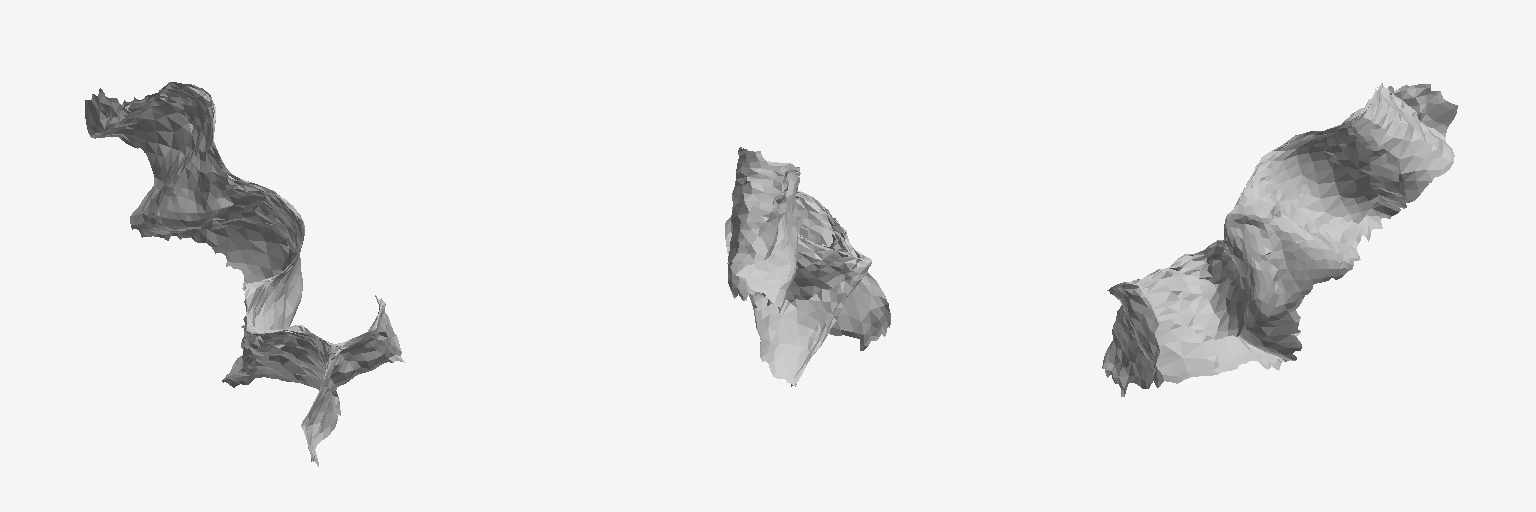
File: L_superior_occipital_and_transverse_occipital_sulci.obj
3 views of the same model, side by side, from view 1: azimuth 30°, elevation 25°; view 2: azimuth 150°, elevation 25°; view 3: azimuth 270°, elevation 25° (orthographic).
Parts seen in each view (by area): view 1: L_superior_occipital_and_transverse_occipital_sulci_R_superior_o; view 2: L_superior_occipital_and_transverse_occipital_sulci_R_superior_o; view 3: L_superior_occipital_and_transverse_occipital_sulci_R_superior_o.
Part boxes in pixels (x1,y1,x2,y2): L_superior_occipital_and_transverse_occipital_sulci_R_superior_o: (85, 82, 404, 466); L_superior_occipital_and_transverse_occipital_sulci_R_superior_o: (725, 147, 890, 386); L_superior_occipital_and_transverse_occipital_sulci_R_superior_o: (1102, 83, 1457, 396).
Size of the model in its own units: 61.06 by 102 by 111.